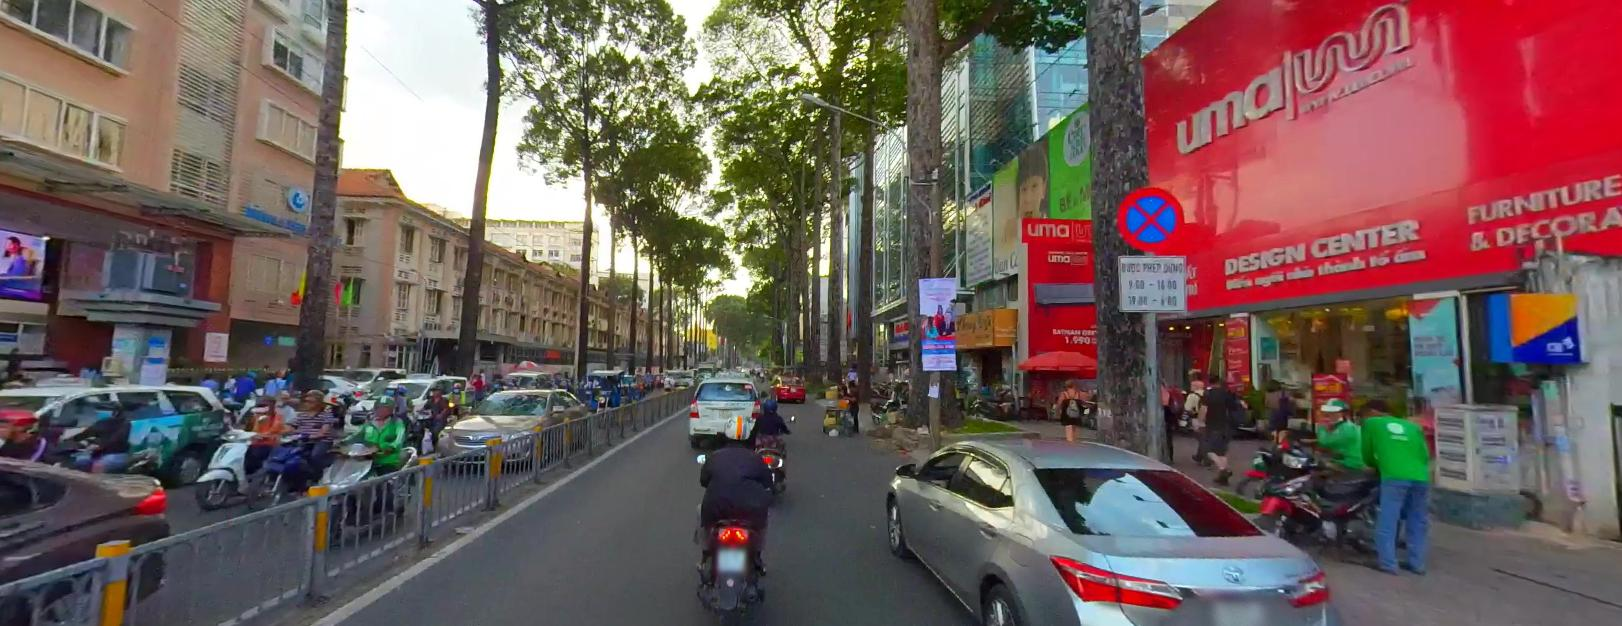Cam dung va do: (1116, 185, 1184, 250), (1117, 186, 1184, 248), (1119, 187, 1182, 249)
